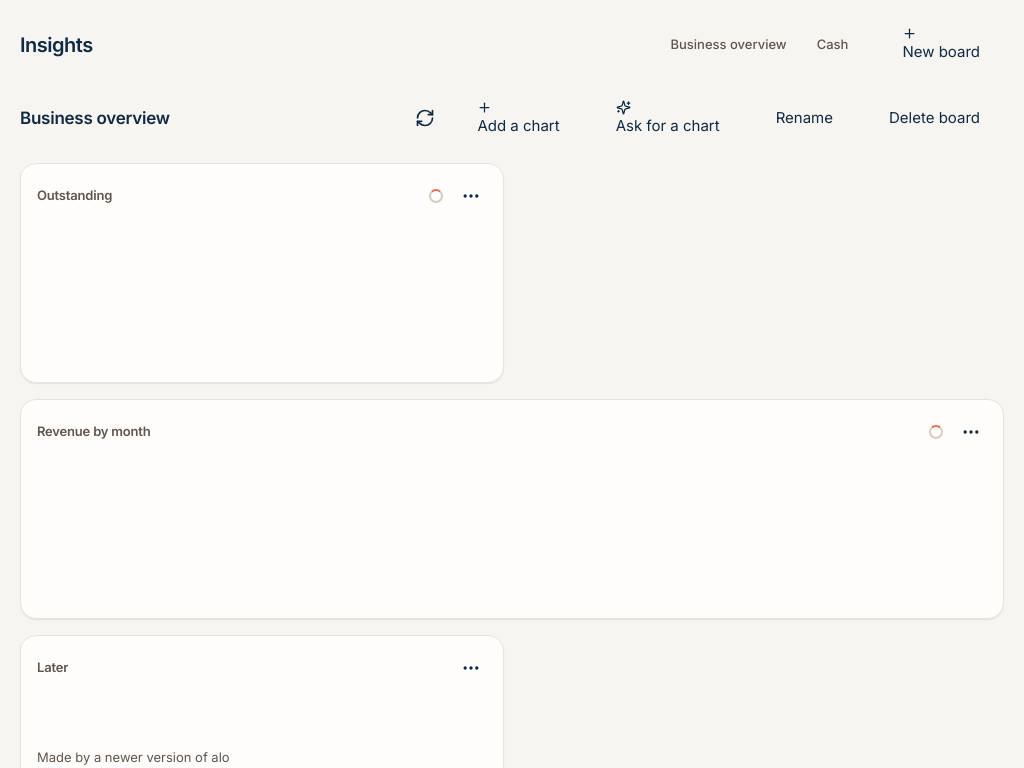
Test: the boards › a new one is created and opened, and nothing is invented before the server answers
The width and height of the screenshot is (1024, 768).
Expected: the heading "Business overview" is shown, [20,106,170,131]
Click the button "New board" at (941, 45), box [878,16,1004,74]
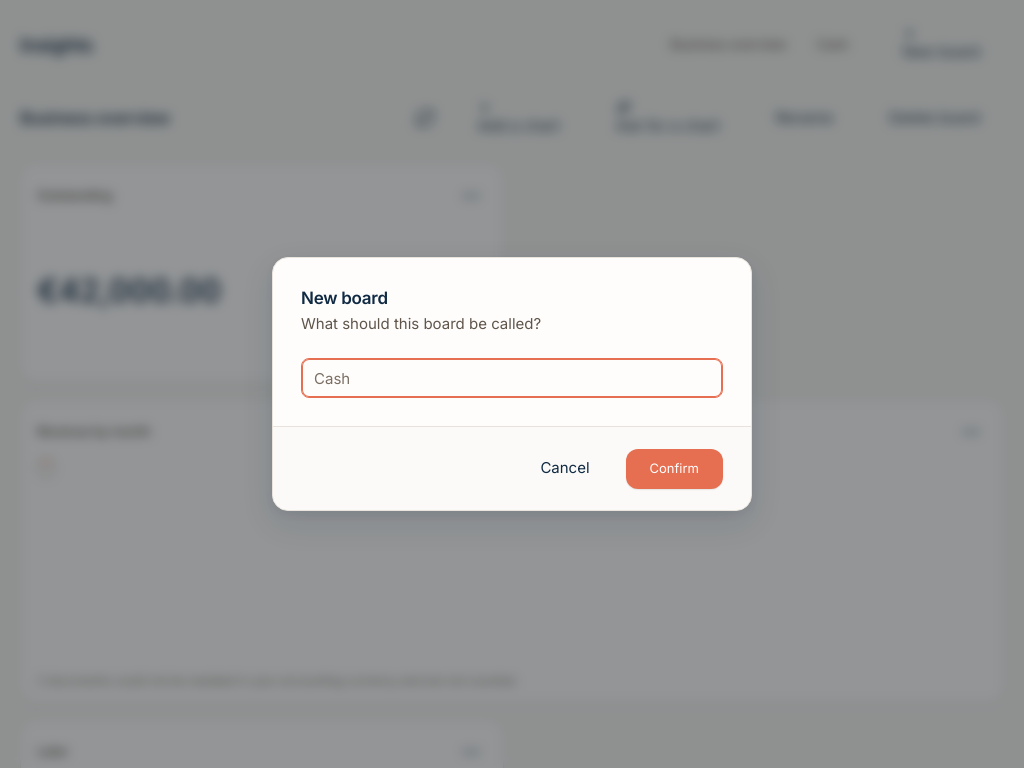
Type " VAT " into the field at (512, 378), box [301,358,723,398]
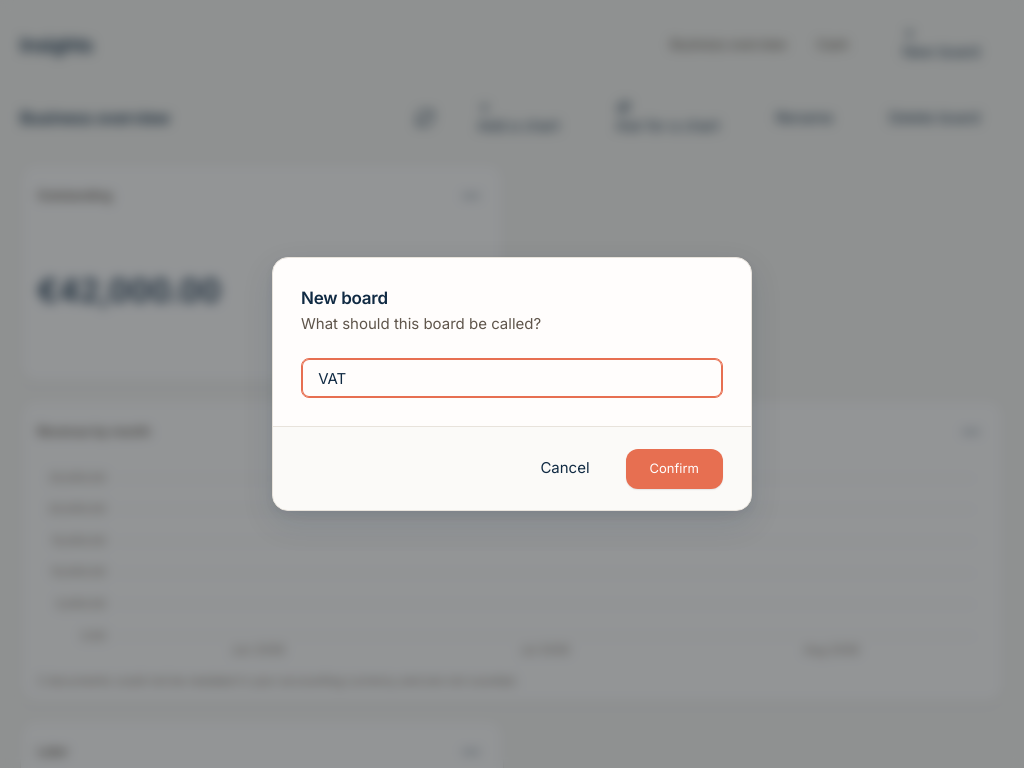
Click the button "Confirm" at (674, 468), box [626,448,723,488]
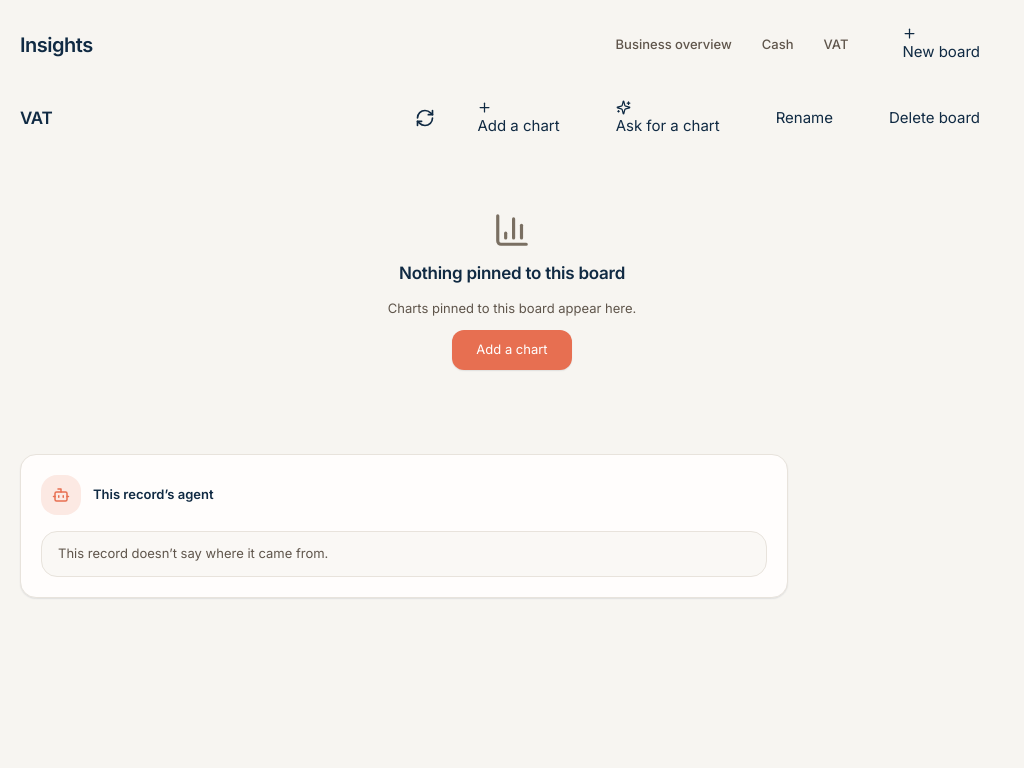
Expected: the heading "VAT" is shown, [20,106,52,131]
